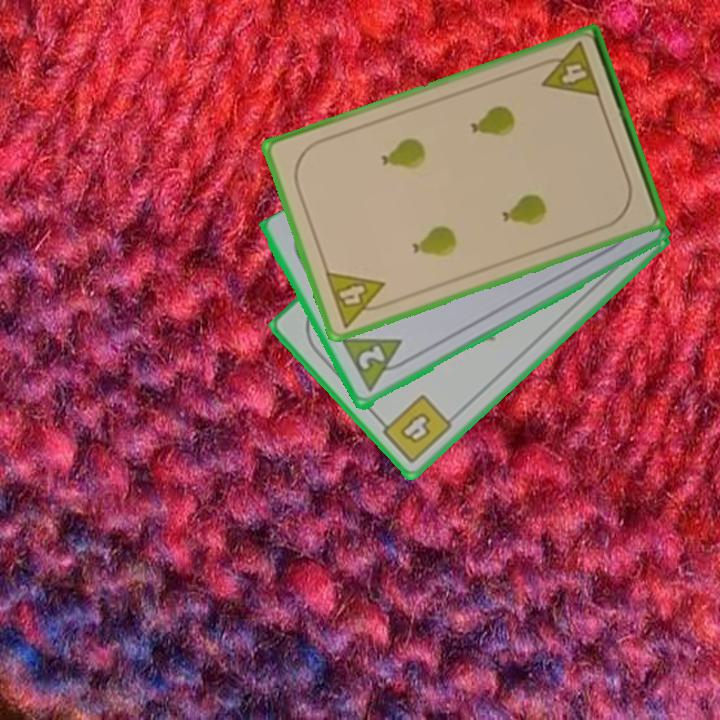2p: (337, 334, 415, 396)
4b: (373, 391, 455, 467)
4p: (321, 267, 394, 331), (533, 39, 604, 102)
